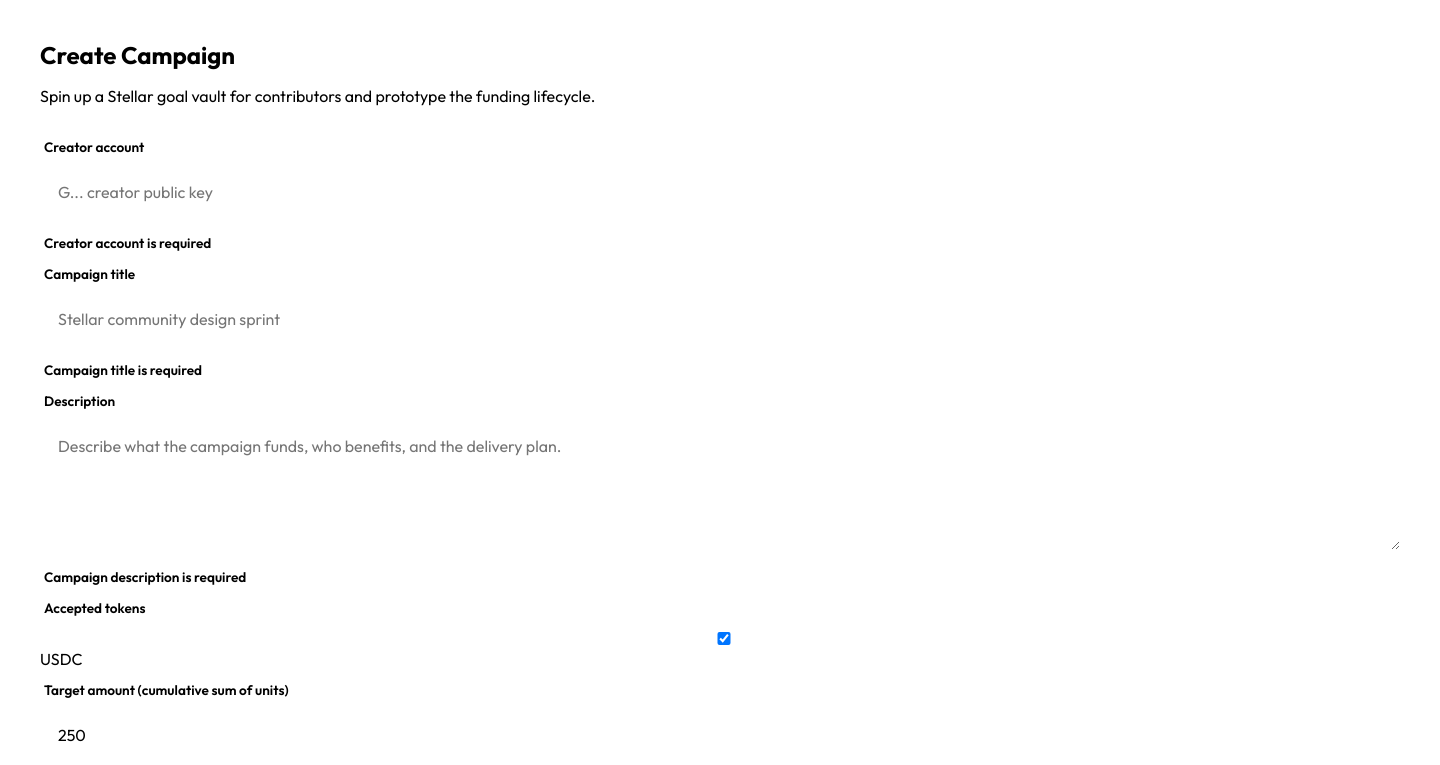
Test: CreateCampaignForm › Field Validation - Title › accepts valid title
In the field with placeholder "Stellar community design sprint": (720, 319) top-left (40, 295), bottom-right (1400, 343), type "My Test Campaign"
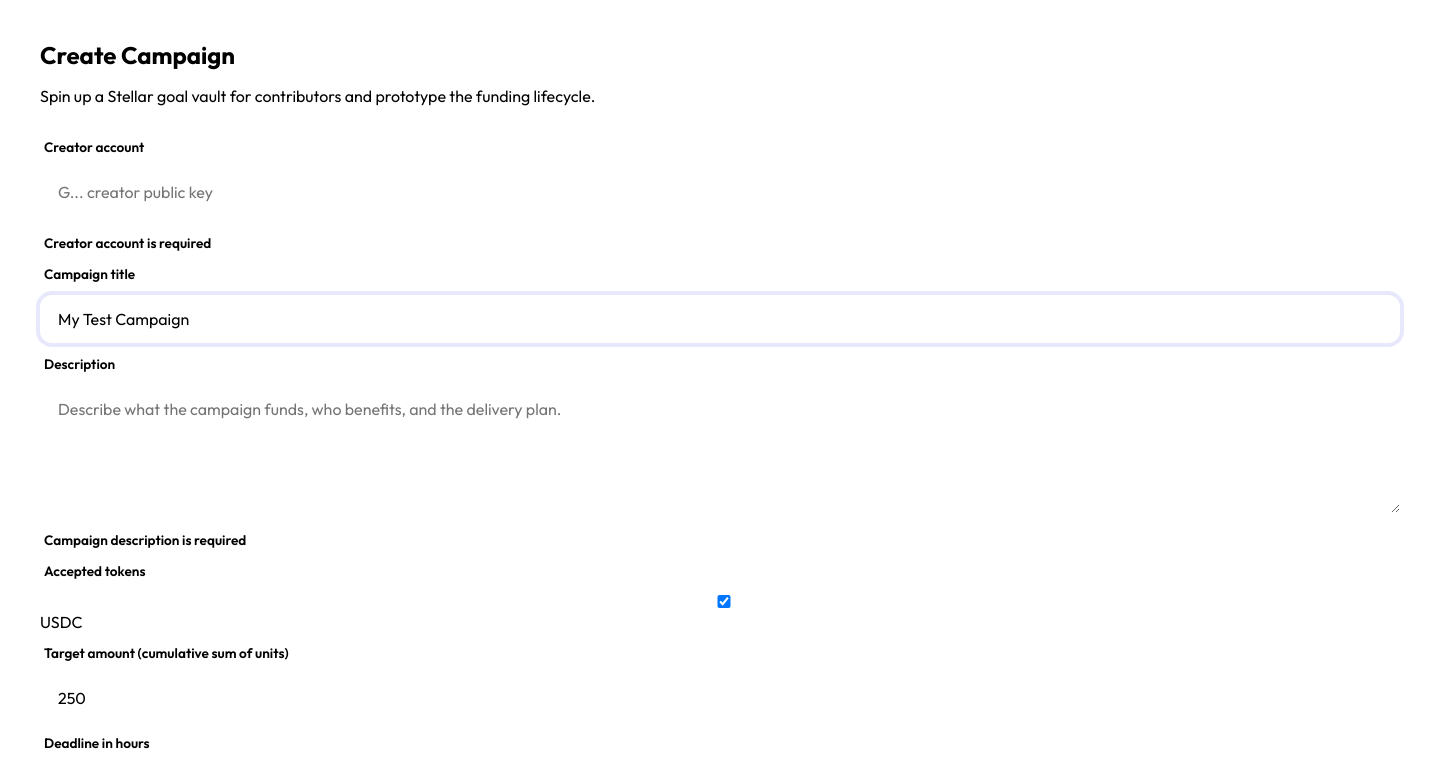
Check: the text "title is required" is gone
